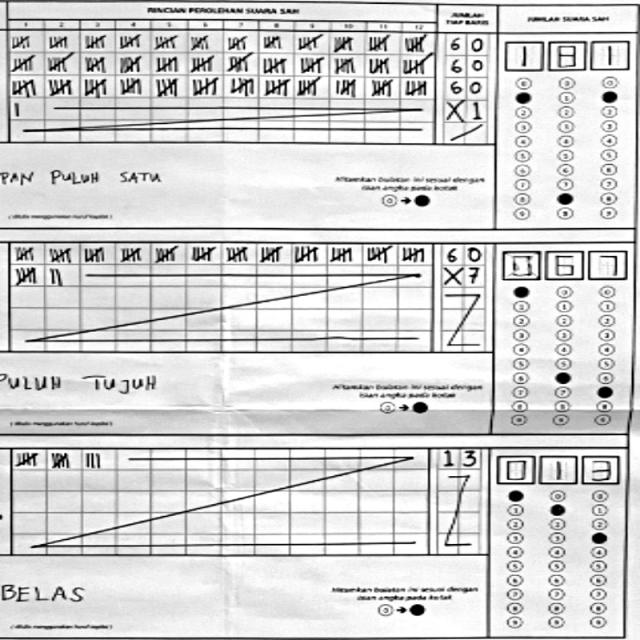Suara: (498, 246, 634, 284), (490, 449, 626, 486), (500, 37, 635, 74)
